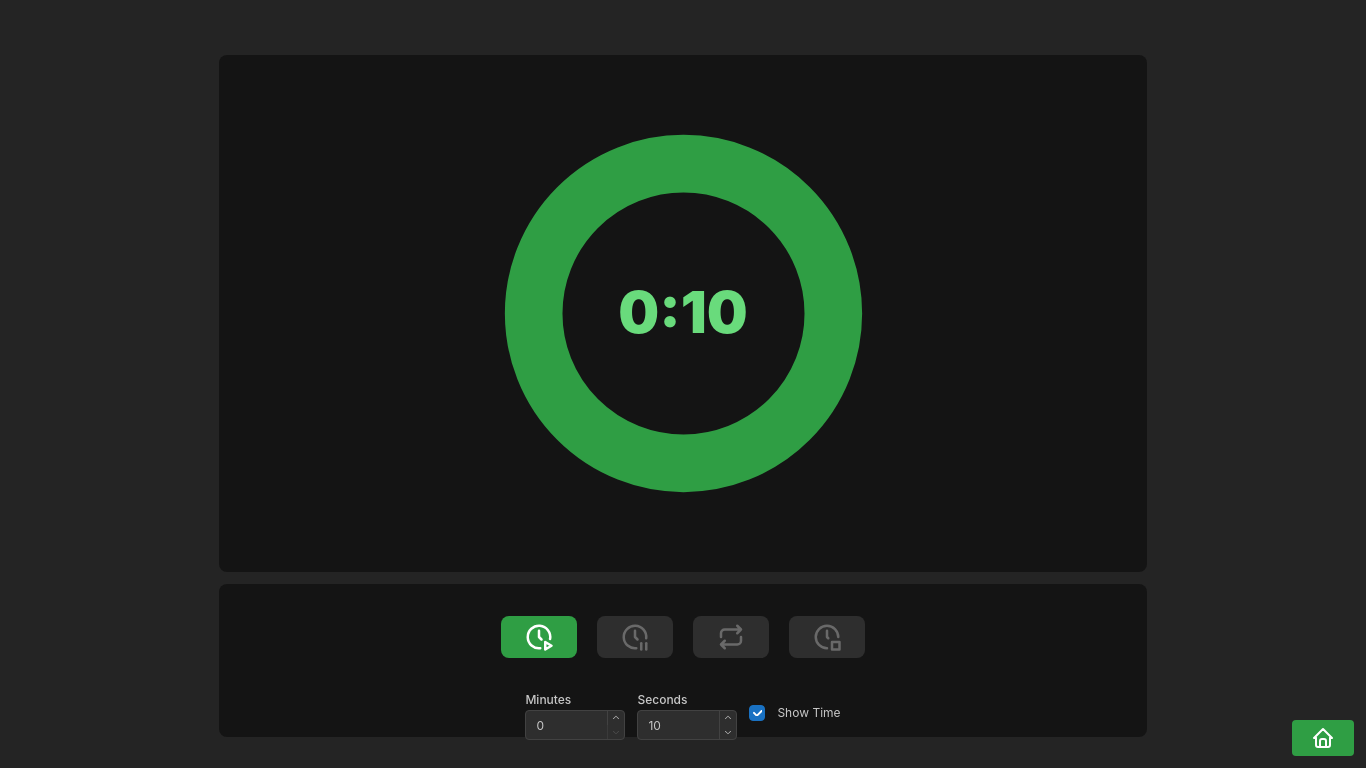
Test: hourglass timer › should flip the timer
Click the button titled "Start" at (539, 637), box [501,616,577,658]
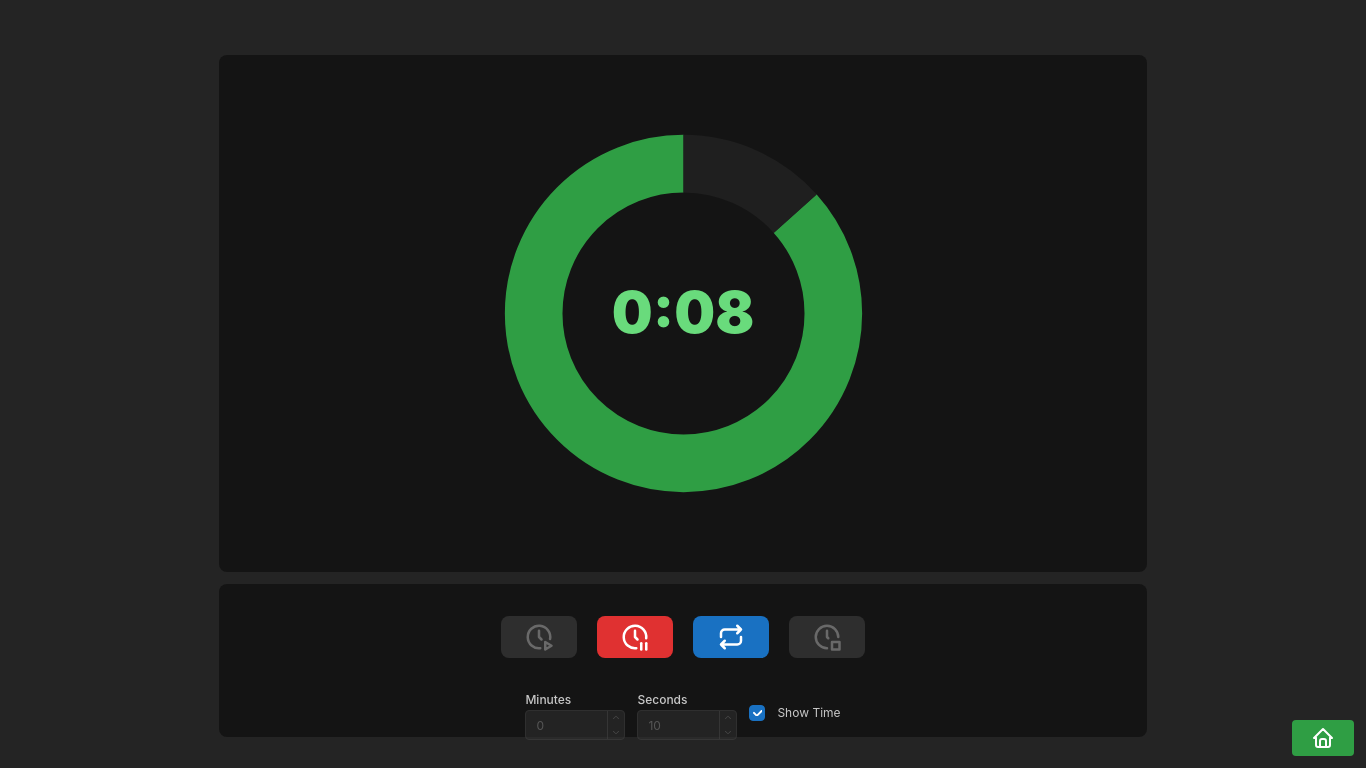
Click the button titled "Flip" at (731, 637), box [693,616,769,658]
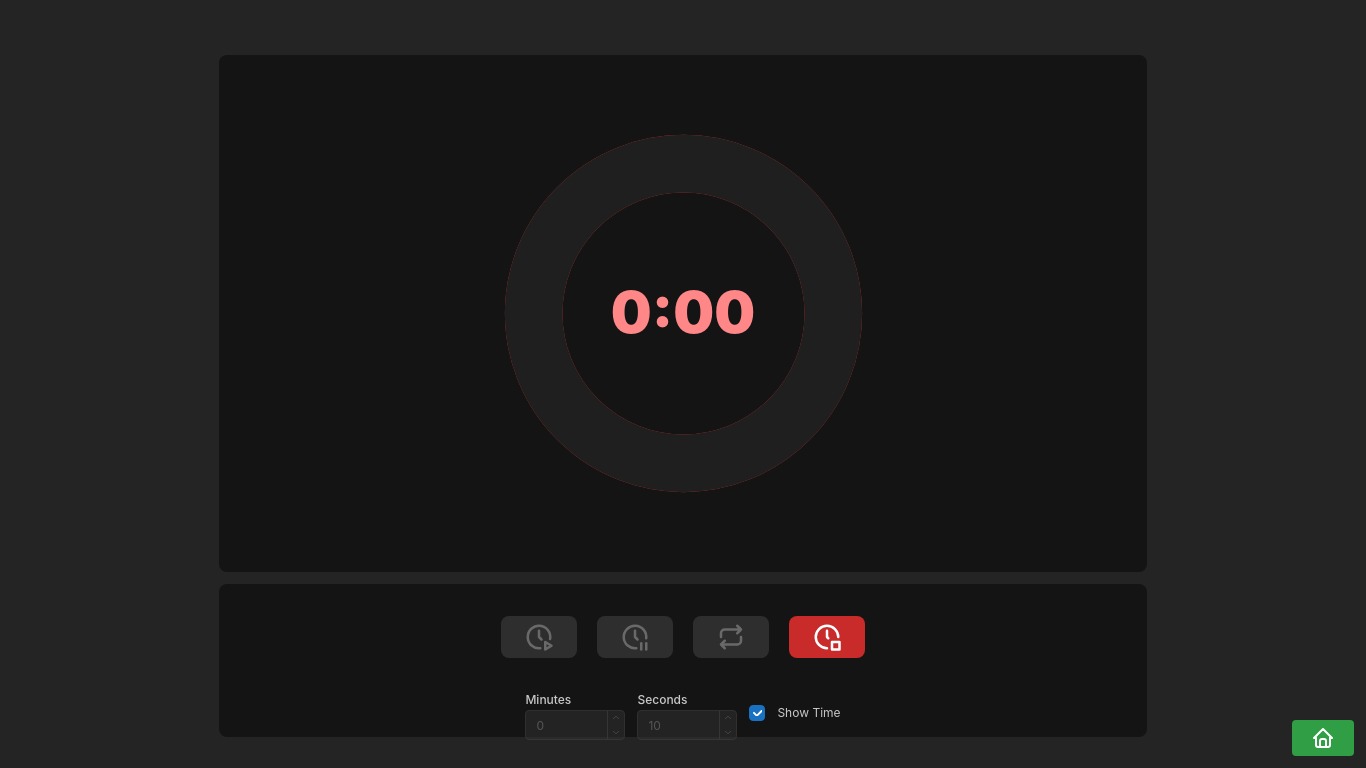
Now the text "0:00" is shown, box [611,277,755,347]
